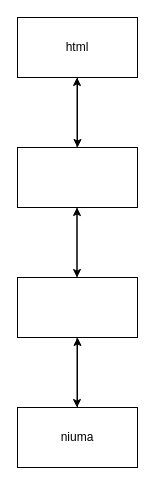
Image size: 155x485. Some labels were removed from this diagram. Here are the shapes that lost their labels. From the top down, the centre of each, then its label:
the point at 77,177: body
the point at 77,307: div
